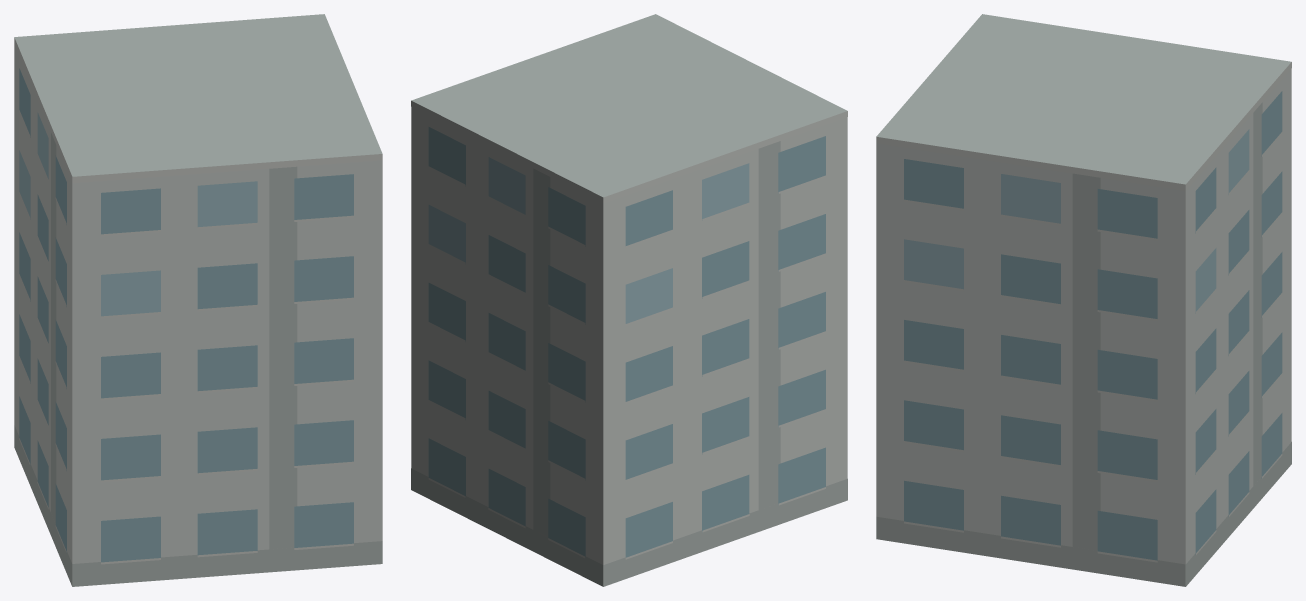
File: residential-70cbd88b-9de1-4717-899e-8c1d5661c077.glb
3 renders of one model, left to right at view 1: azimuth 30°, elevation 25°; view 2: azimuth 150°, elevation 25°; view 3: azimuth 270°, elevation 25°, orthographic. The views are drawn at different scales.
Visible parts, largest first — view 1: residential-70cbd88b-9de1-4717-899e-8c1d5661c077.tmp; view 2: residential-70cbd88b-9de1-4717-899e-8c1d5661c077.tmp; view 3: residential-70cbd88b-9de1-4717-899e-8c1d5661c077.tmp.
Part boxes in pixels (bbox=[...]): residential-70cbd88b-9de1-4717-899e-8c1d5661c077.tmp: bbox=[14, 14, 382, 586]; residential-70cbd88b-9de1-4717-899e-8c1d5661c077.tmp: bbox=[411, 14, 847, 586]; residential-70cbd88b-9de1-4717-899e-8c1d5661c077.tmp: bbox=[876, 14, 1291, 586].
Size of the model in its own units: 13.87 by 15.25 by 14.28.
